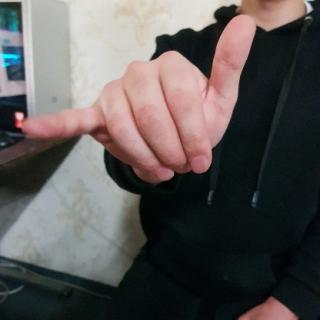YA: (18, 11, 260, 185)
